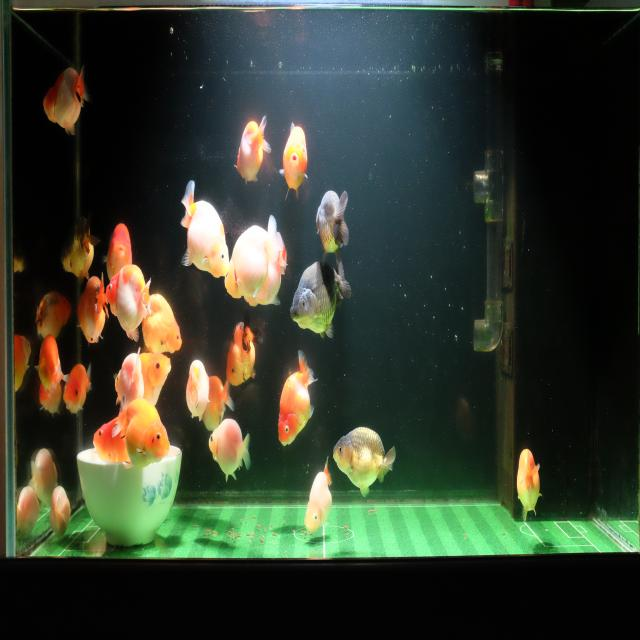Tilapia: (288, 255, 353, 340), (180, 177, 230, 280), (223, 213, 280, 302), (332, 426, 397, 500), (112, 394, 171, 472), (276, 348, 318, 450), (105, 262, 153, 344), (42, 60, 89, 139), (246, 230, 287, 308), (55, 211, 99, 283), (225, 311, 264, 391), (207, 415, 252, 484), (233, 111, 272, 187), (72, 272, 110, 349), (141, 289, 184, 356), (278, 118, 309, 204), (314, 187, 351, 256), (304, 456, 334, 535), (92, 412, 133, 467), (27, 441, 61, 506), (113, 346, 144, 417), (33, 287, 72, 343), (37, 332, 70, 398), (516, 448, 542, 526), (105, 216, 135, 282), (204, 371, 234, 432), (138, 351, 171, 406), (62, 361, 93, 418), (15, 480, 40, 548), (185, 358, 210, 422), (48, 483, 72, 542), (14, 331, 32, 399)
